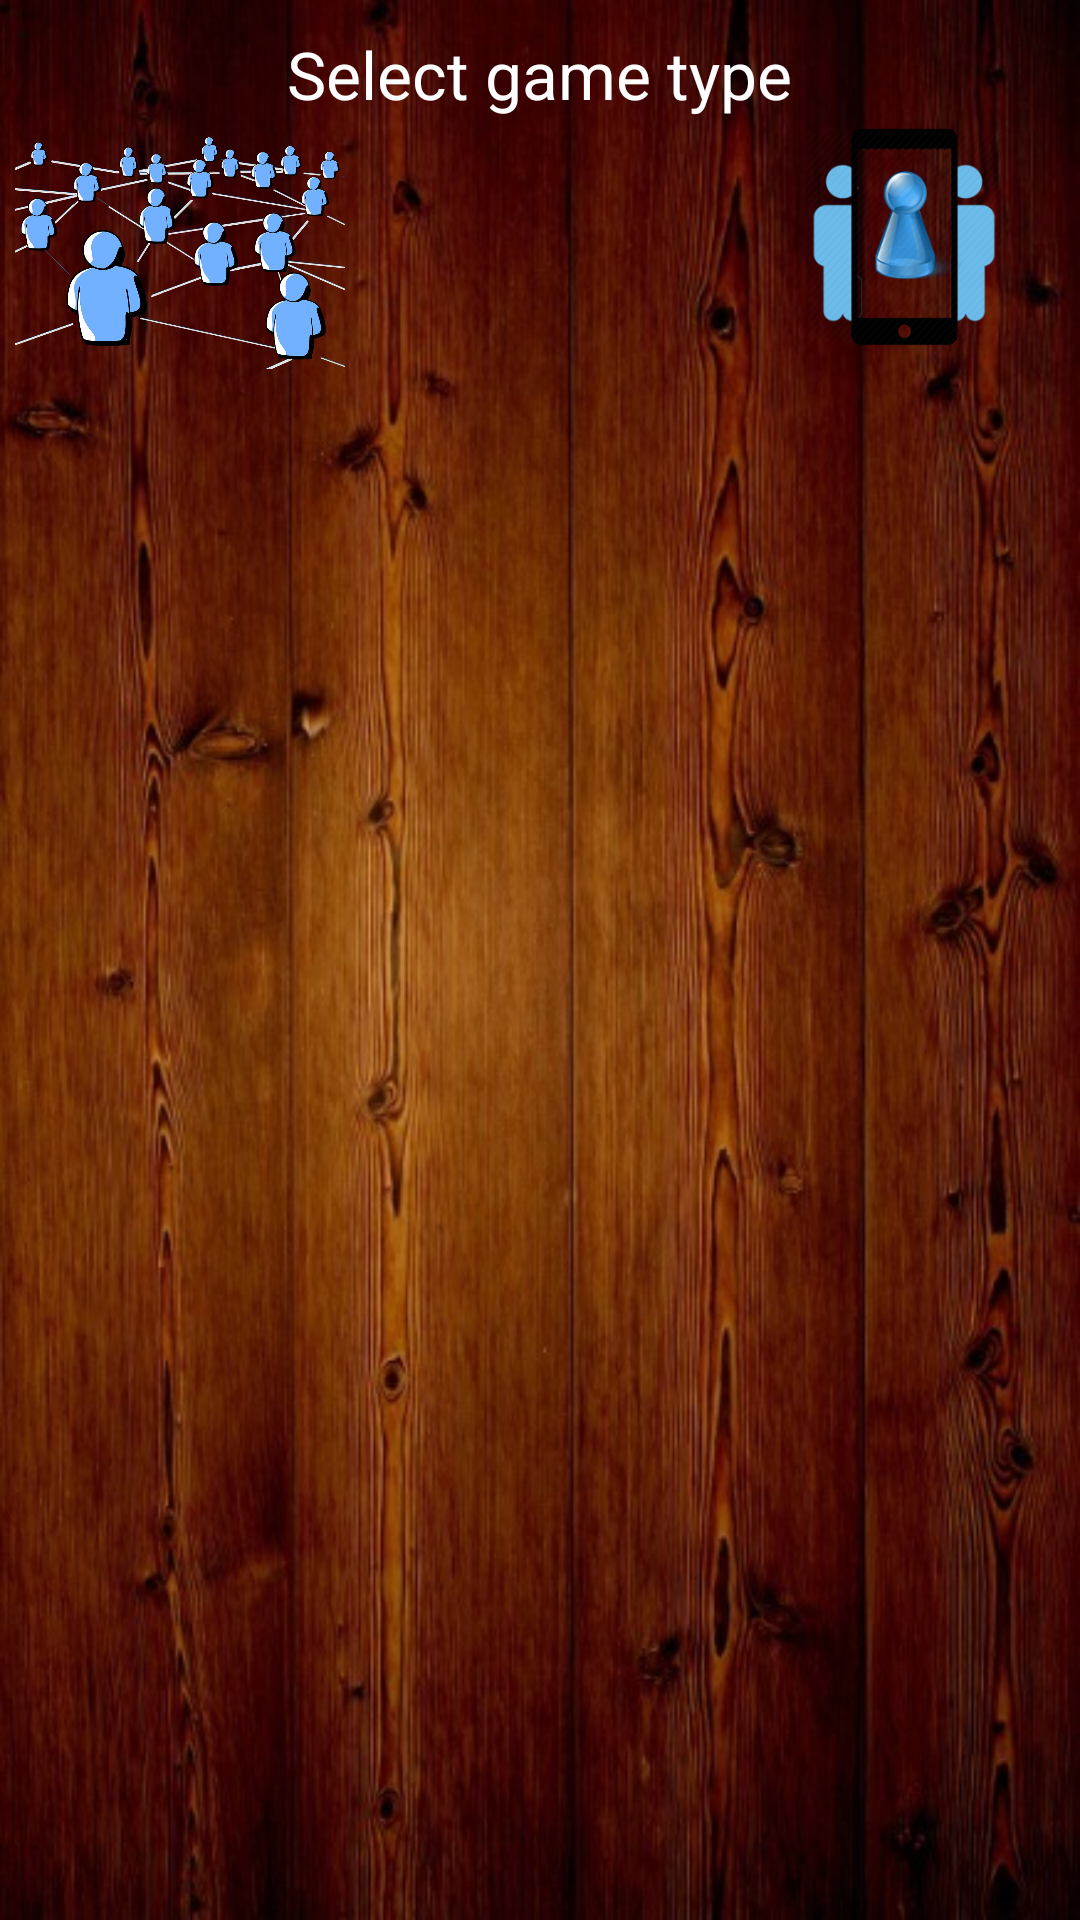

Icons on this 1080px x 1920px Android screen, each with its box as BBox(x1, y1, x2, y2):
One device: BBox(735, 118, 1063, 388)
Online: BBox(15, 118, 345, 388)
